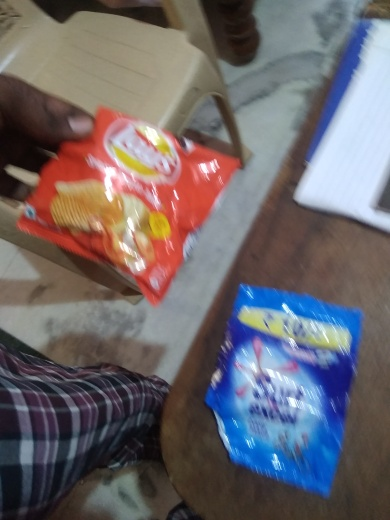lays: (31, 103, 249, 298)
surf: (206, 285, 371, 491)
